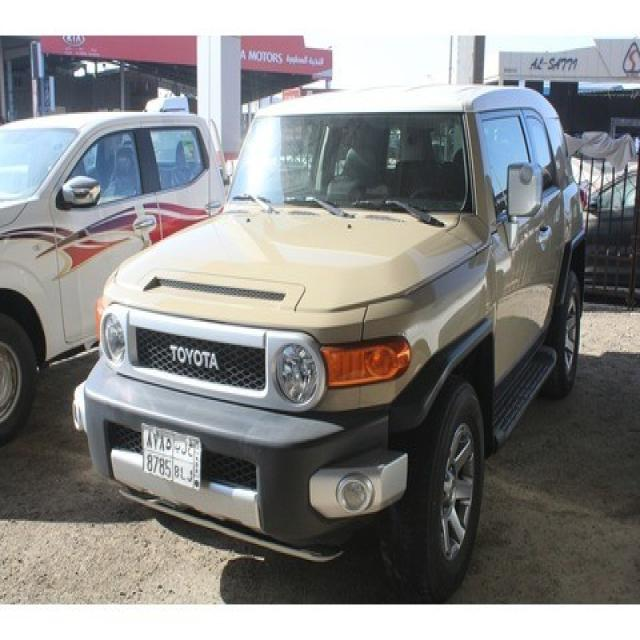license_plate: (140, 422, 203, 494)
